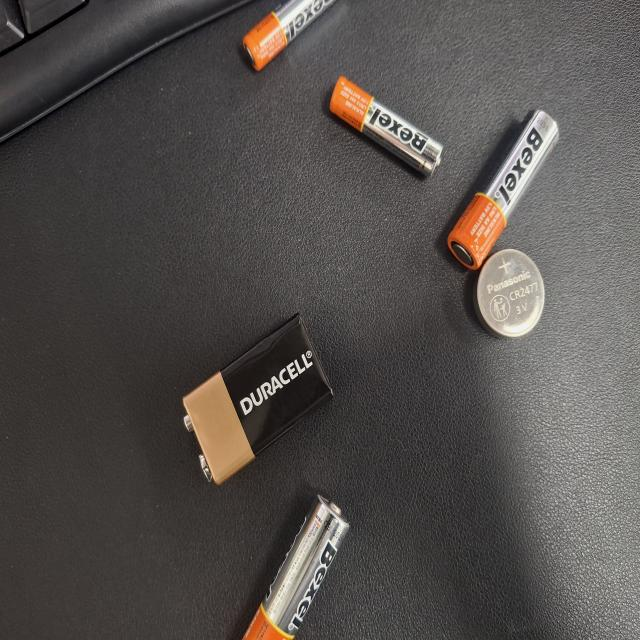9V: (233, 408, 363, 608)
AA: (83, 109, 201, 257), (370, 392, 478, 540)
AAA: (56, 263, 136, 413), (0, 390, 52, 528)
COIN: (186, 128, 254, 222)
